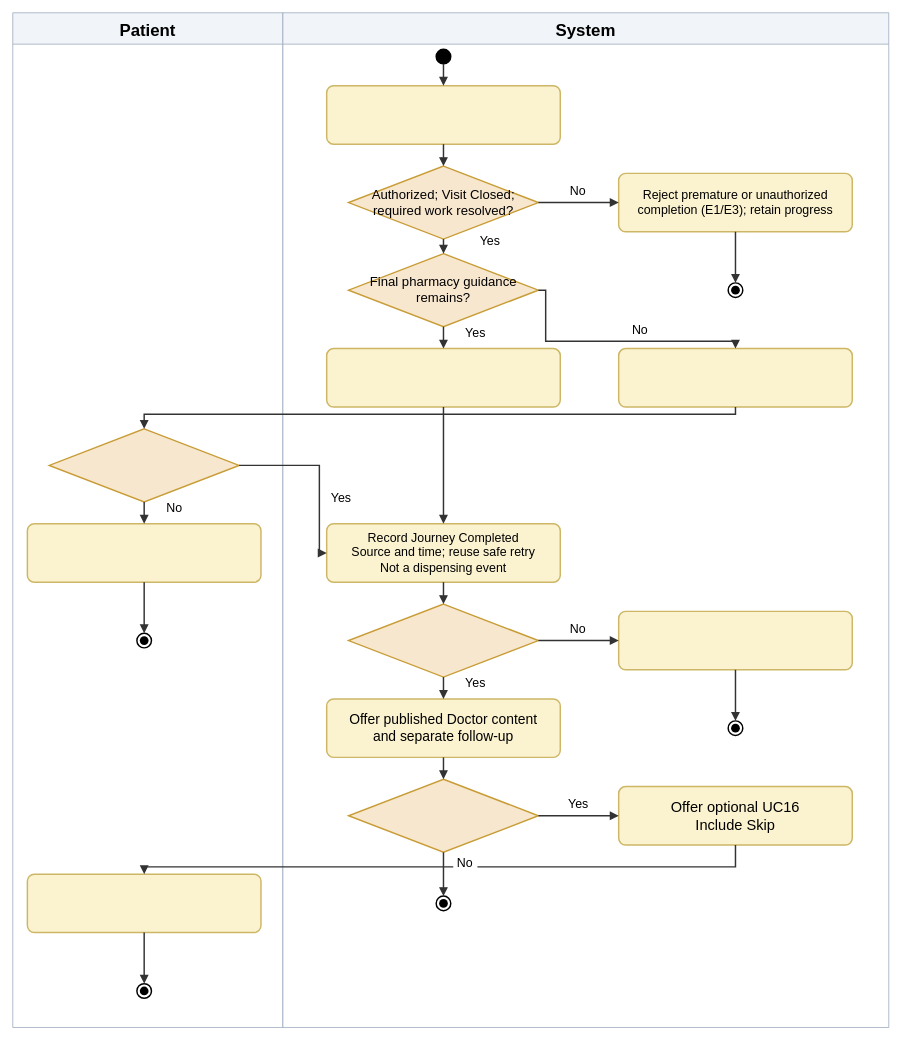
This 902x1040 diagram has some shape labels left out. The centre of each missing label's shape, as x and y in pixels:
"Choose UC16 or Skip (A2) Keep remaining valid access" goes at (143,903).
"Completion confirmed?" goes at (443,640).
"Confirm final guidance?" goes at (143,465).
"Keep last confirmed state (E2) Check result before safe retry" goes at (735,640).
"Leave unfinished (A3) Resume existing Journey later" goes at (143,553).
"Patient is a guest?" goes at (443,815).
"Receive closure evaluation or Patient completion request" goes at (443,115).
"Show final destination and eligible Complete Journey action" goes at (443,377).
"Use automatic completion (A1) No patient confirmation required" goes at (735,377).
